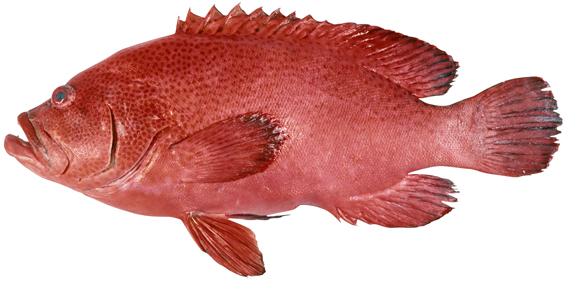fish: (4, 5, 561, 277)
